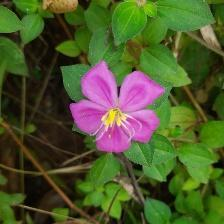malabar melastome: (65, 59, 173, 157)
